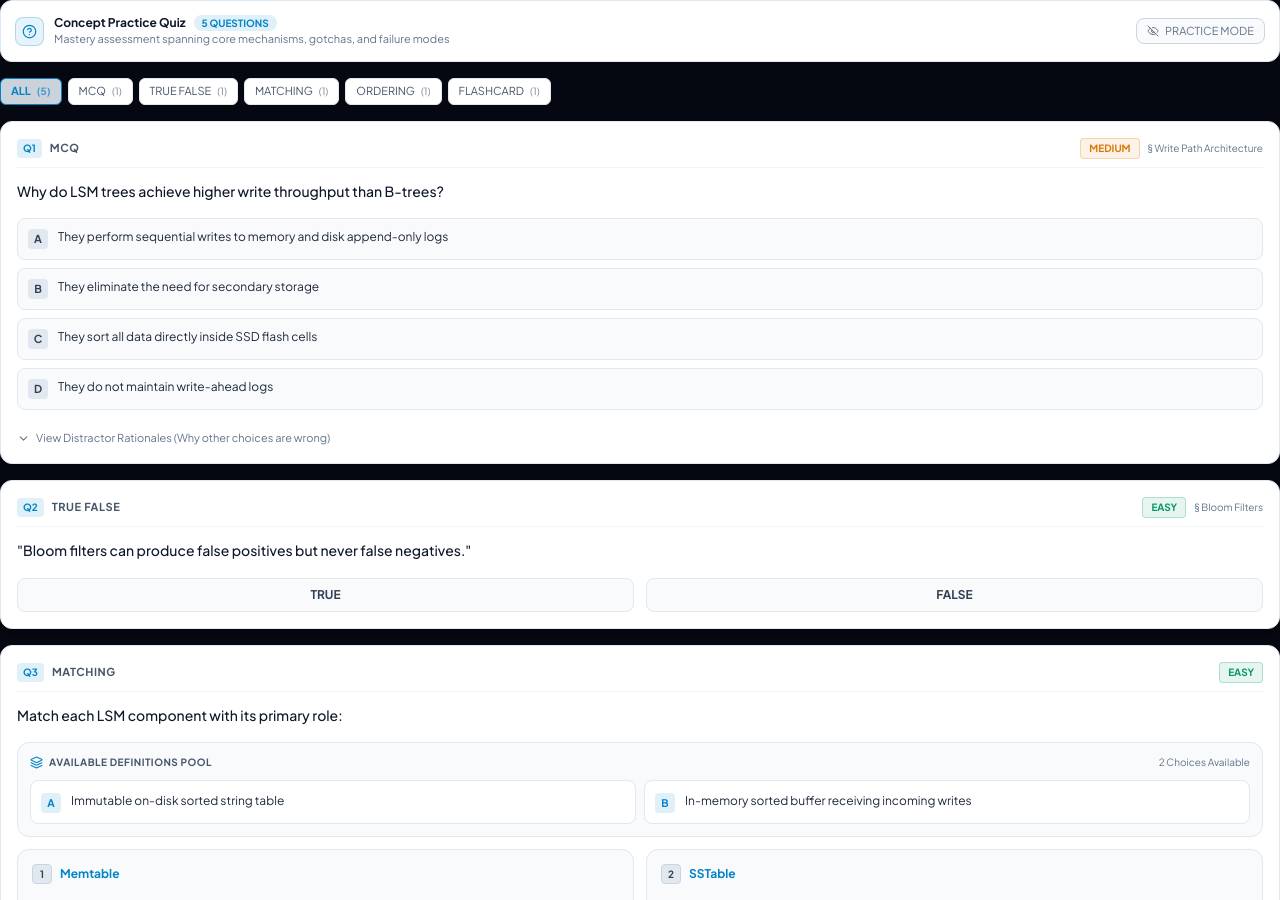
Scenario: QuizViewer Component › filters questions by clicking question type tab
Click FLASHCARD filter tab
Click the button "FLASHCARD (1)". click: (499, 91)
box: [448,78,551,104]
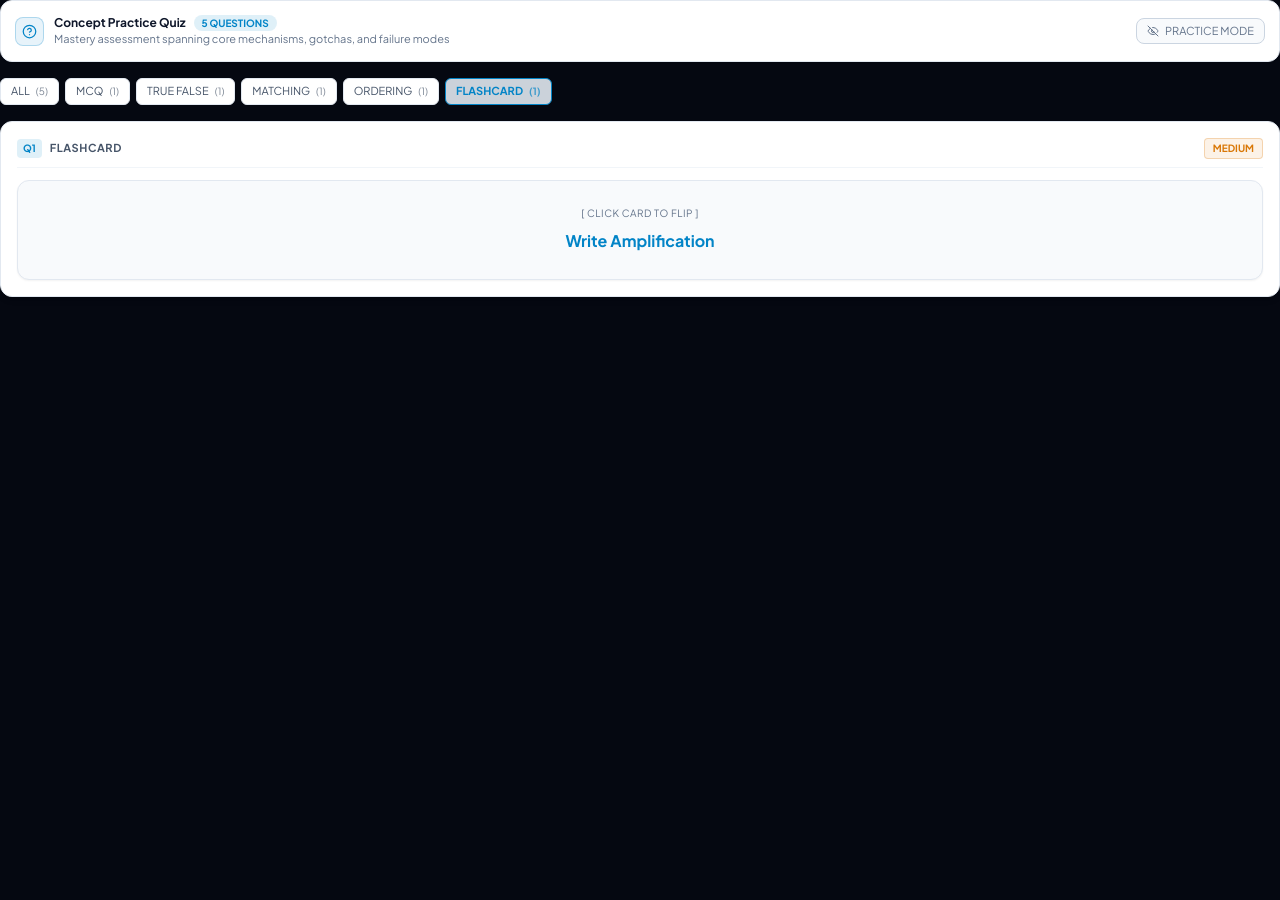
Expected: the heading "Write Amplification" is shown, [565,229,715,253]
Result: the text "Why do LSM trees achieve higher write throughput than B-trees?" is gone
